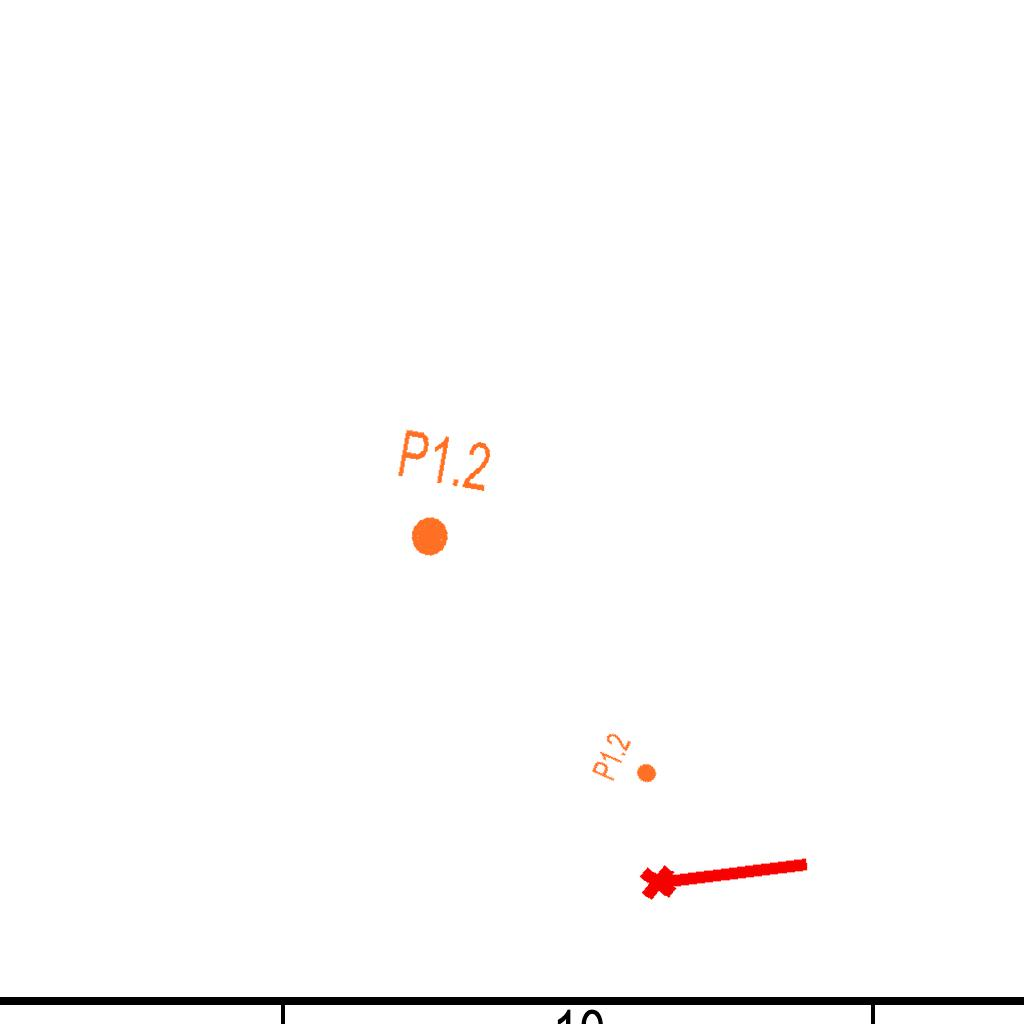ASR_Ansaugoeffnung: (634, 838, 816, 906)
Downlight_LED_Einbauleuchten_Flur: (381, 424, 496, 568), (589, 729, 667, 799)
